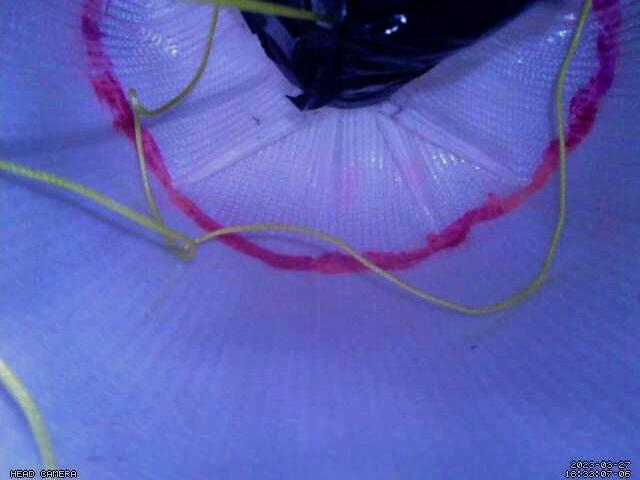head: (79, 0, 621, 275)
